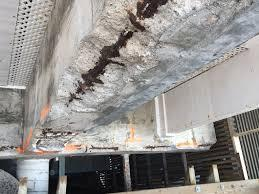spalling: (49, 0, 259, 119), (76, 30, 133, 93), (127, 0, 167, 31), (69, 93, 78, 102)
